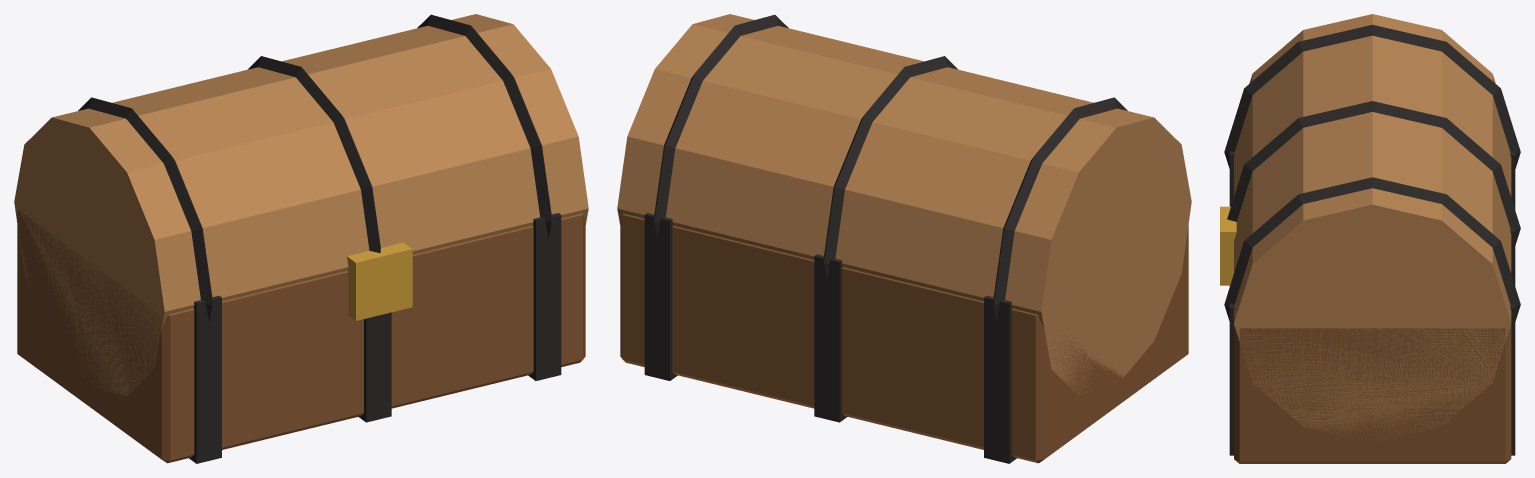
The model's file is Chest.fbx.
3 views of the same model, side by side, from view 1: azimuth 30°, elevation 25°; view 2: azimuth 150°, elevation 25°; view 3: azimuth 270°, elevation 25° (orthographic). The views are drawn at different scales.
Visible parts, largest first — view 1: Chest; view 2: Chest; view 3: Chest.
Part boxes in pixels (x1,y1,x2,y2): Chest: (14, 14, 588, 463); Chest: (617, 14, 1191, 463); Chest: (1220, 14, 1520, 463).
Bounding box in the file's own units: 3 × 2 × 2.
